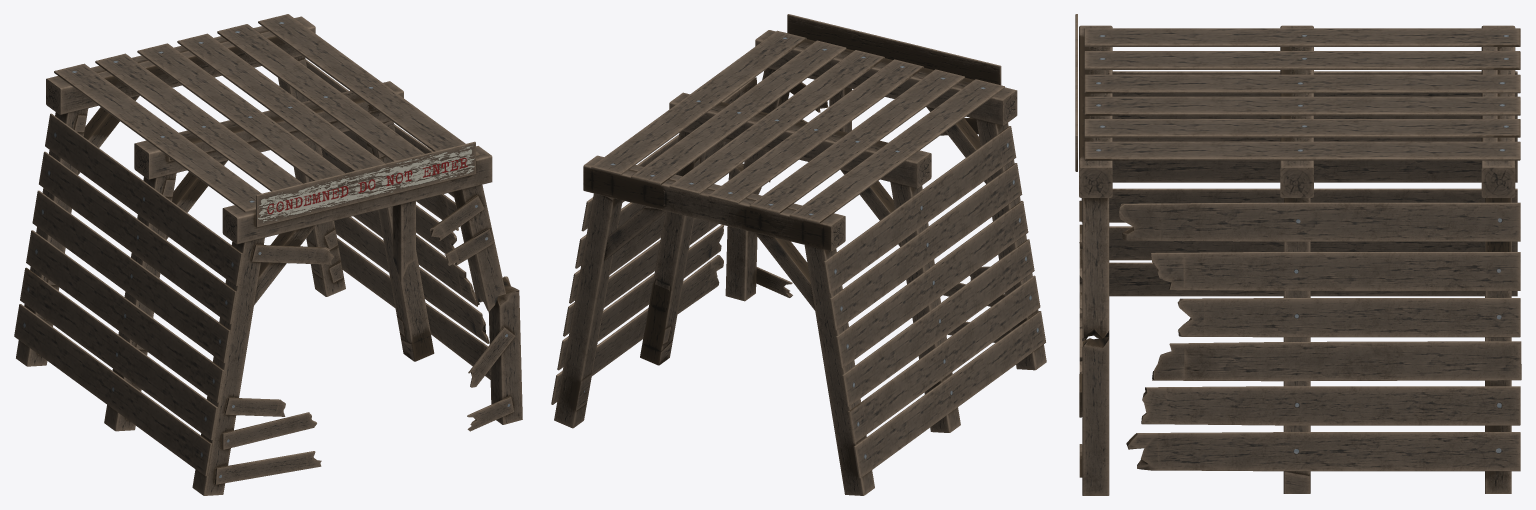
File: disused_mineshaft_entrance.glb
The picture shows the model from 3 angles, left to right: view 1: azimuth 30°, elevation 25°; view 2: azimuth 150°, elevation 25°; view 3: azimuth 270°, elevation 25°; orthographic projection. The views are drawn at different scales.
Visible parts, largest first — view 1: MineEntranceCombined; view 2: MineEntranceCombined; view 3: MineEntranceCombined.
Boxes of the visible parts, x1=… form: MineEntranceCombined: x1=14, y1=14, x2=522, y2=495; MineEntranceCombined: x1=551, y1=14, x2=1046, y2=495; MineEntranceCombined: x1=1075, y1=14, x2=1521, y2=495.
Size of the model in its own units: 3.13 by 2.75 by 3.32.
1 material, 1 textured.
